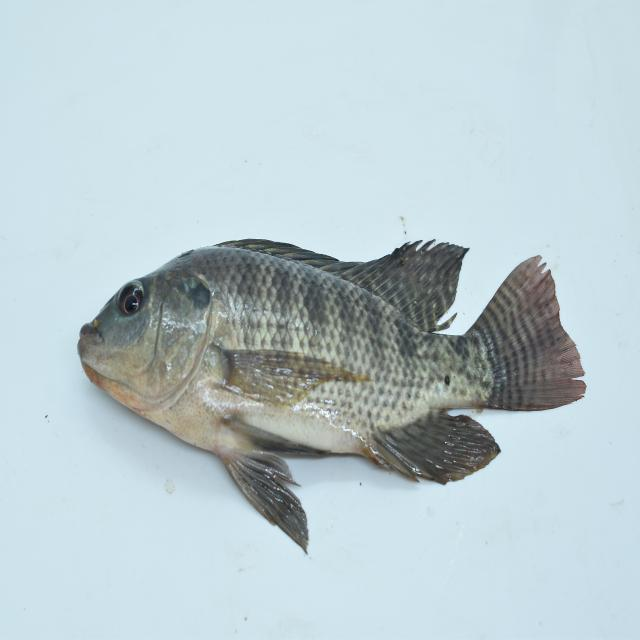Healthy Fish: (63, 237, 585, 556)
